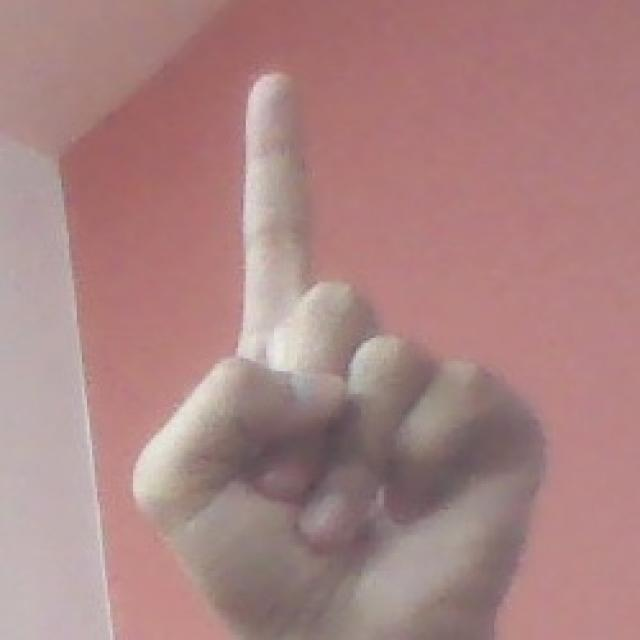Numeric-1: (127, 71, 547, 636)
